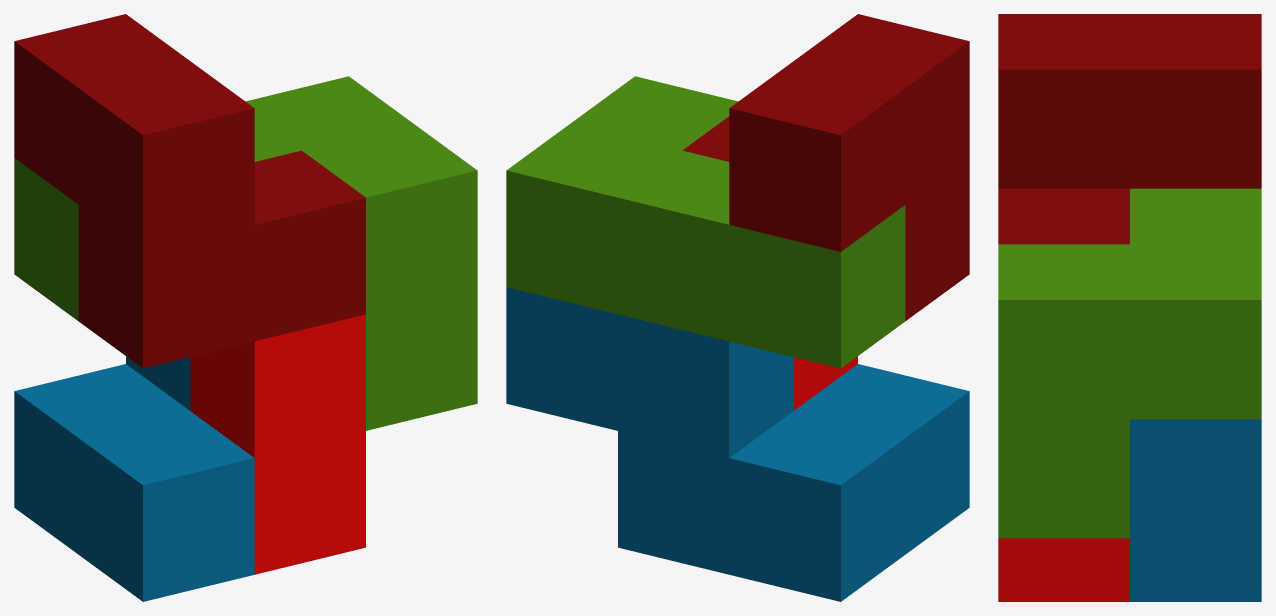
The picture shows the model from 3 angles, left to right: view 1: azimuth 30°, elevation 25°; view 2: azimuth 150°, elevation 25°; view 3: azimuth 270°, elevation 25°; orthographic projection. The views are drawn at different scales.
Visible parts, largest first — view 1: mergedBlocks(Clone); view 2: mergedBlocks(Clone); view 3: mergedBlocks(Clone).
Boxes of the visible parts, bbox=[...] form: mergedBlocks(Clone): bbox=[14, 14, 477, 601]; mergedBlocks(Clone): bbox=[506, 14, 969, 601]; mergedBlocks(Clone): bbox=[998, 14, 1261, 601].
Size of the model in its own units: 3 by 4 by 2.
Materials: 4 (4 with a texture image).
